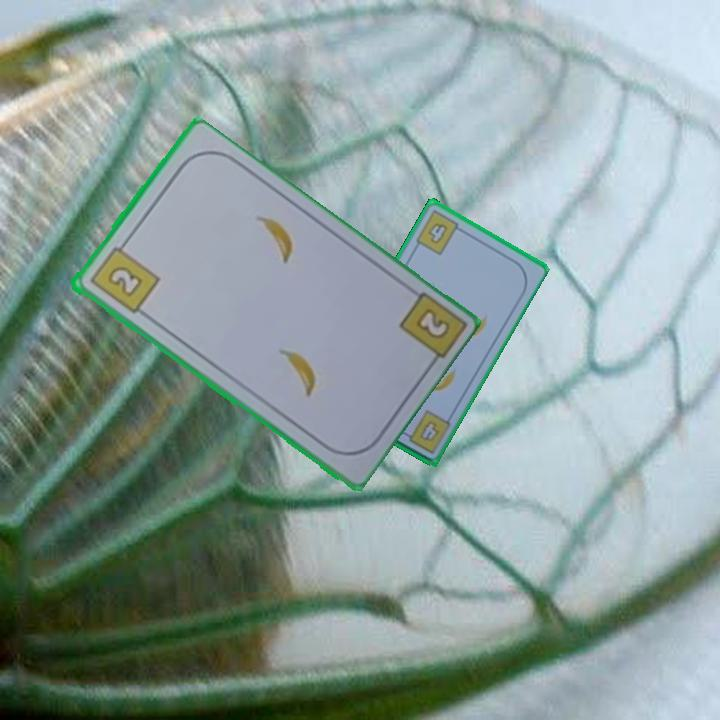2b: (85, 237, 162, 317), (411, 304, 453, 343)
4b: (412, 206, 467, 258), (415, 417, 441, 444)
